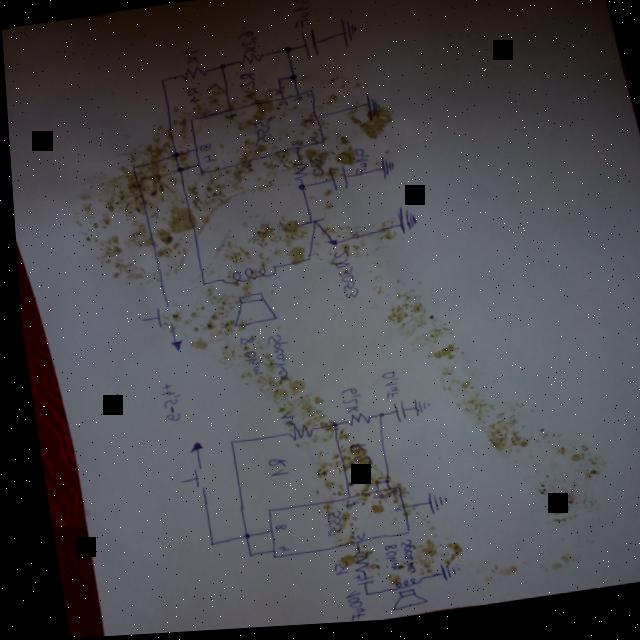capacitor: (297, 29, 320, 63), (321, 167, 345, 196), (384, 402, 401, 426), (343, 574, 366, 589)
ground: (337, 18, 360, 50), (391, 208, 416, 237), (428, 558, 454, 585), (416, 492, 442, 518), (361, 94, 381, 124), (402, 398, 426, 421), (375, 155, 394, 183)
junction: (317, 421, 332, 433), (232, 531, 244, 541), (279, 47, 290, 57), (291, 184, 303, 193), (368, 413, 378, 423), (170, 166, 181, 175), (168, 151, 179, 159), (285, 75, 297, 82), (373, 478, 382, 487), (237, 552, 245, 560), (216, 63, 224, 71), (195, 280, 202, 288), (271, 78, 279, 85), (365, 482, 372, 490), (199, 541, 206, 548), (220, 439, 227, 446), (354, 592, 360, 599), (157, 77, 163, 83), (127, 165, 132, 170)
resistor: (276, 424, 308, 445), (175, 65, 207, 83), (234, 52, 264, 70), (341, 553, 362, 577), (335, 413, 364, 430), (285, 161, 306, 183)
source: (180, 440, 197, 455), (164, 339, 178, 353)
switch: (133, 300, 169, 331), (169, 463, 199, 495)
text: (325, 251, 355, 303), (230, 337, 260, 388), (259, 335, 284, 385), (151, 381, 177, 424), (288, 0, 313, 32), (333, 591, 357, 624), (246, 119, 271, 150), (389, 541, 410, 577), (338, 442, 365, 469), (346, 147, 369, 177), (333, 388, 356, 417), (373, 372, 395, 402), (234, 30, 258, 57), (373, 545, 394, 575), (258, 457, 284, 480), (315, 512, 336, 540), (303, 151, 322, 179), (234, 71, 256, 93), (179, 45, 200, 66), (182, 85, 200, 107), (269, 411, 289, 429), (323, 561, 341, 579), (197, 151, 212, 165), (272, 101, 287, 113), (340, 534, 358, 544), (334, 500, 350, 510), (265, 523, 279, 534), (194, 144, 209, 154), (220, 112, 235, 122), (288, 97, 302, 107), (268, 545, 281, 555), (286, 139, 300, 148), (383, 506, 395, 516), (363, 495, 376, 504), (378, 492, 391, 500), (299, 119, 312, 126)
transistor: (295, 218, 336, 264)
